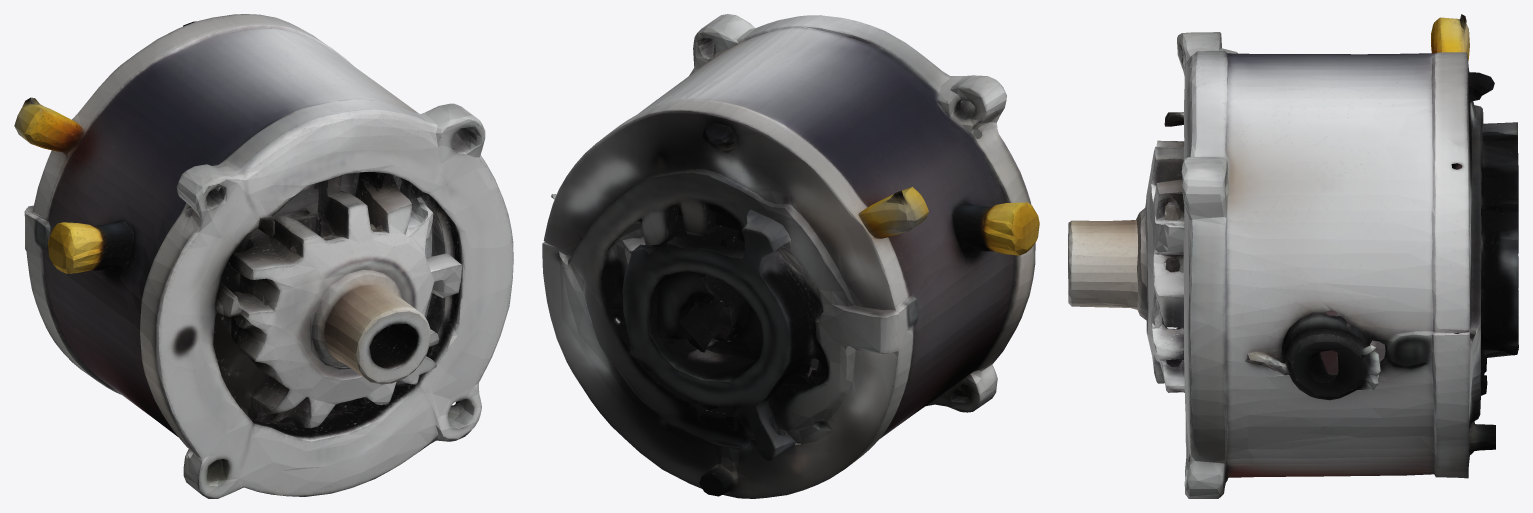
Rendered from dc_motor_n20.glb.
3 views of the same model, side by side, from view 1: azimuth 30°, elevation 25°; view 2: azimuth 150°, elevation 25°; view 3: azimuth 270°, elevation 25° (orthographic). The views are drawn at different scales.
Parts seen in each view (by area): view 1: world; view 2: world; view 3: world.
Part boxes in pixels (x1,y1,x2,y2): world: [14, 14, 513, 498]; world: [542, 14, 1039, 498]; world: [1068, 14, 1518, 498].
Bounding box in the file's own units: 0.7341 × 0.5933 × 0.6192.
Materials: 1 (1 with a texture image).
